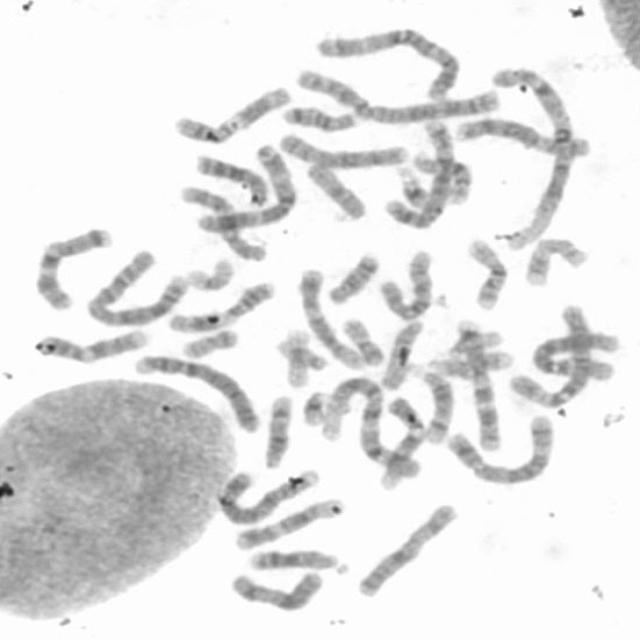A1: (486, 60, 580, 252), (316, 372, 424, 481)
A2: (289, 62, 503, 125), (82, 245, 192, 328)
A3: (310, 23, 462, 102), (187, 137, 296, 233)
B4: (129, 348, 266, 434), (215, 453, 327, 520)
B5: (380, 113, 458, 230), (441, 408, 556, 487)
C10: (174, 179, 268, 263), (374, 243, 438, 321)
C11: (168, 80, 296, 144), (162, 276, 278, 334)
C12: (292, 264, 364, 371), (229, 493, 346, 551)
C6: (504, 325, 622, 409), (526, 326, 620, 382)
C7: (29, 220, 116, 313), (449, 316, 503, 454)
C8: (450, 111, 594, 158), (273, 128, 409, 169)
C9: (30, 322, 152, 365), (374, 392, 425, 490)
D13: (190, 148, 272, 209), (247, 543, 356, 578)
D14: (403, 358, 457, 446), (257, 390, 294, 470)
D15: (301, 158, 369, 223), (375, 315, 426, 391)
E16: (408, 145, 472, 206), (461, 233, 510, 311)
E17: (518, 232, 591, 288), (418, 345, 517, 378)
E18: (323, 247, 383, 306), (278, 100, 361, 133)
F19: (278, 322, 314, 388), (180, 252, 236, 292)
F20: (336, 313, 386, 367), (177, 323, 240, 359)
G21: (391, 163, 431, 210), (297, 384, 330, 427)
G22: (271, 332, 330, 373), (443, 327, 504, 358)
X: (351, 497, 462, 600), (225, 564, 326, 613)
